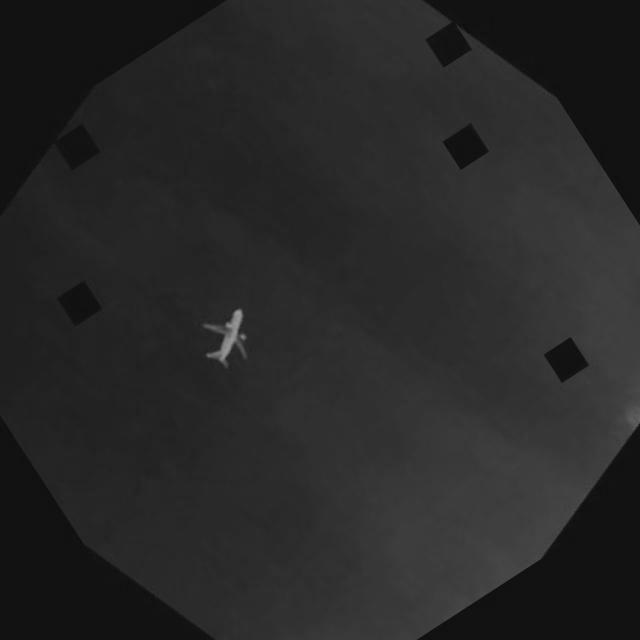aeroplane: (190, 302, 262, 371)
